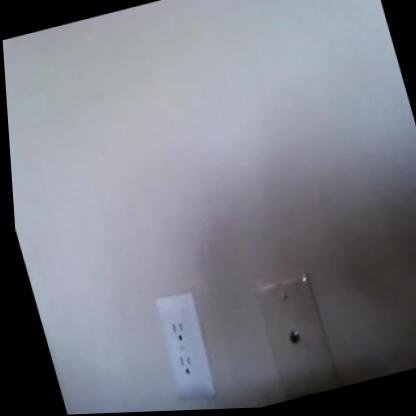OUTLET: (149, 289, 220, 404)
